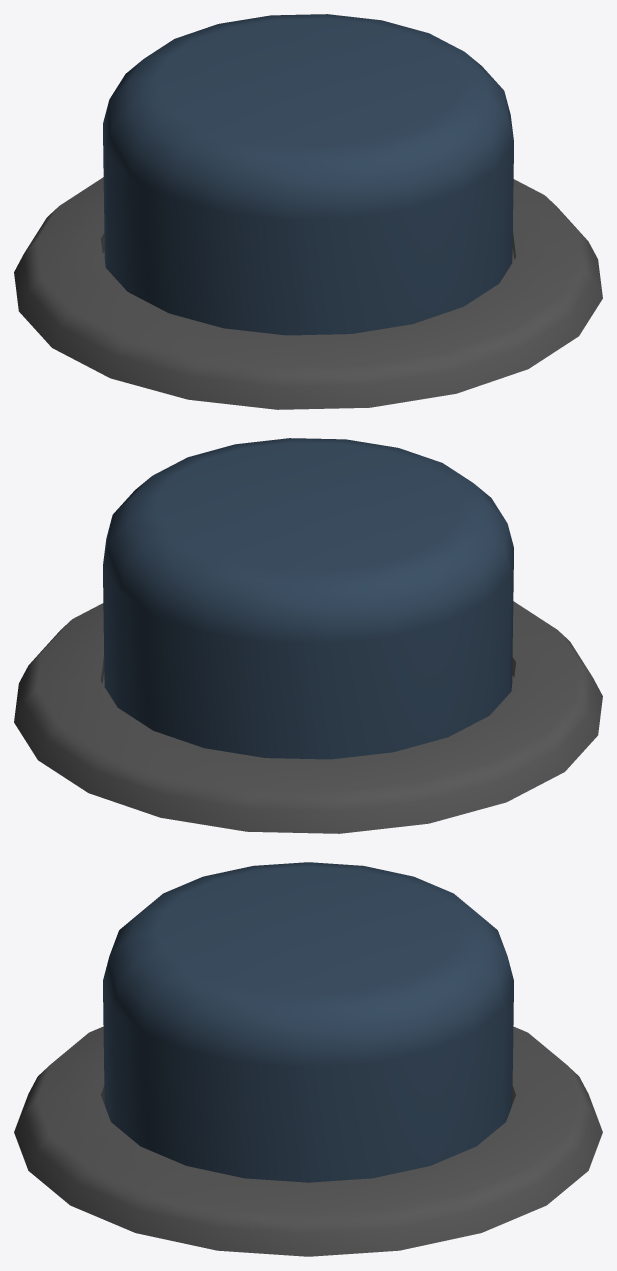
The model's file is button8.glb.
3 renders of one model, top to bottom at view 1: azimuth 30°, elevation 25°; view 2: azimuth 150°, elevation 25°; view 3: azimuth 270°, elevation 25°, orthographic.
Visible parts, largest first — view 1: SM_SimpleButton_B.001, SM_SimpleButton_Base_B.001; view 2: SM_SimpleButton_B.001, SM_SimpleButton_Base_B.001; view 3: SM_SimpleButton_B.001, SM_SimpleButton_Base_B.001.
Part boxes in pixels (x1,y1,x2,y2): SM_SimpleButton_B.001: (103,14,513,335); SM_SimpleButton_Base_B.001: (14,177,602,409); SM_SimpleButton_B.001: (103,438,513,759); SM_SimpleButton_Base_B.001: (14,601,602,833); SM_SimpleButton_B.001: (103,862,513,1182); SM_SimpleButton_Base_B.001: (14,1026,602,1256).
Size of the model in its own units: 24.07 by 9.07 by 24.07.
